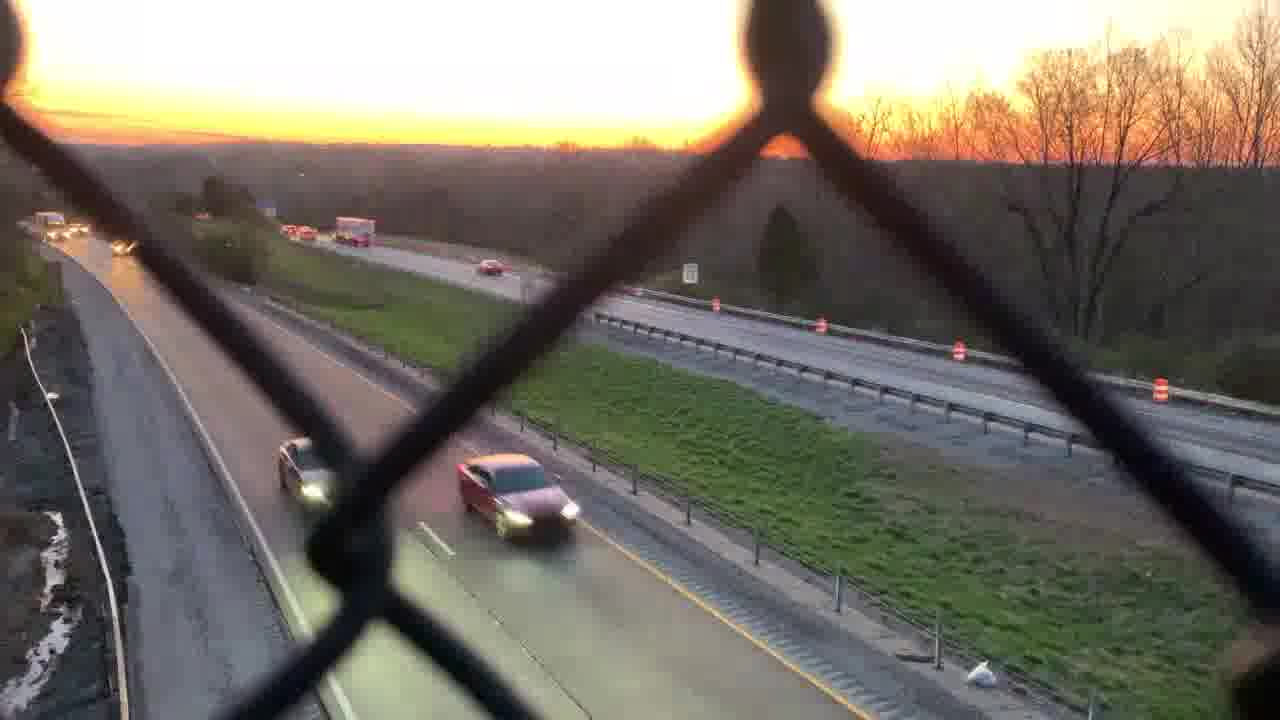heavyTruck: (331, 213, 378, 248)
smallCar: (454, 450, 582, 550), (474, 258, 505, 275)
